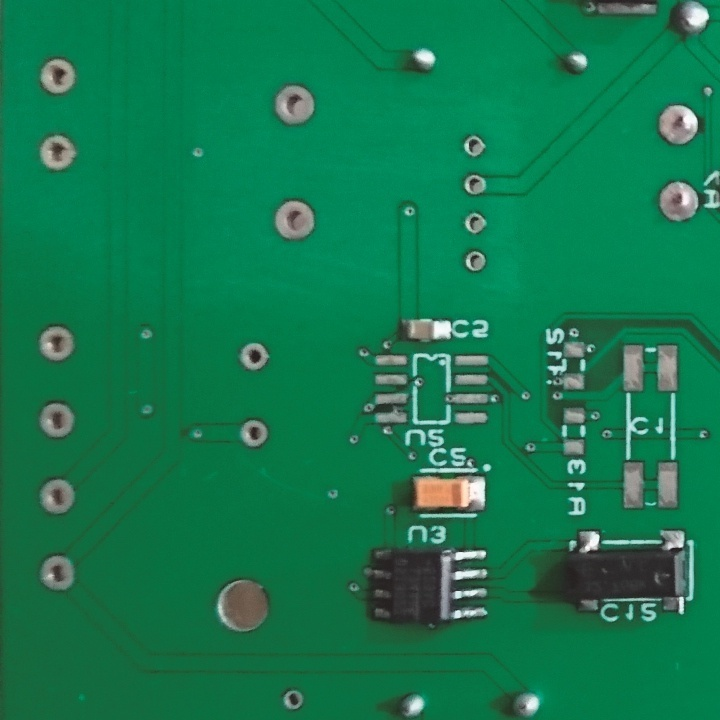F: (270, 195, 321, 246), (652, 103, 701, 149), (656, 179, 703, 226), (273, 82, 320, 127), (33, 323, 78, 366), (35, 475, 79, 518), (37, 55, 79, 100), (34, 552, 79, 594), (38, 133, 80, 176), (36, 398, 77, 439), (236, 340, 273, 373), (238, 418, 272, 451), (462, 248, 491, 276), (461, 132, 489, 159), (278, 688, 308, 712), (464, 211, 490, 237), (463, 172, 488, 198)
